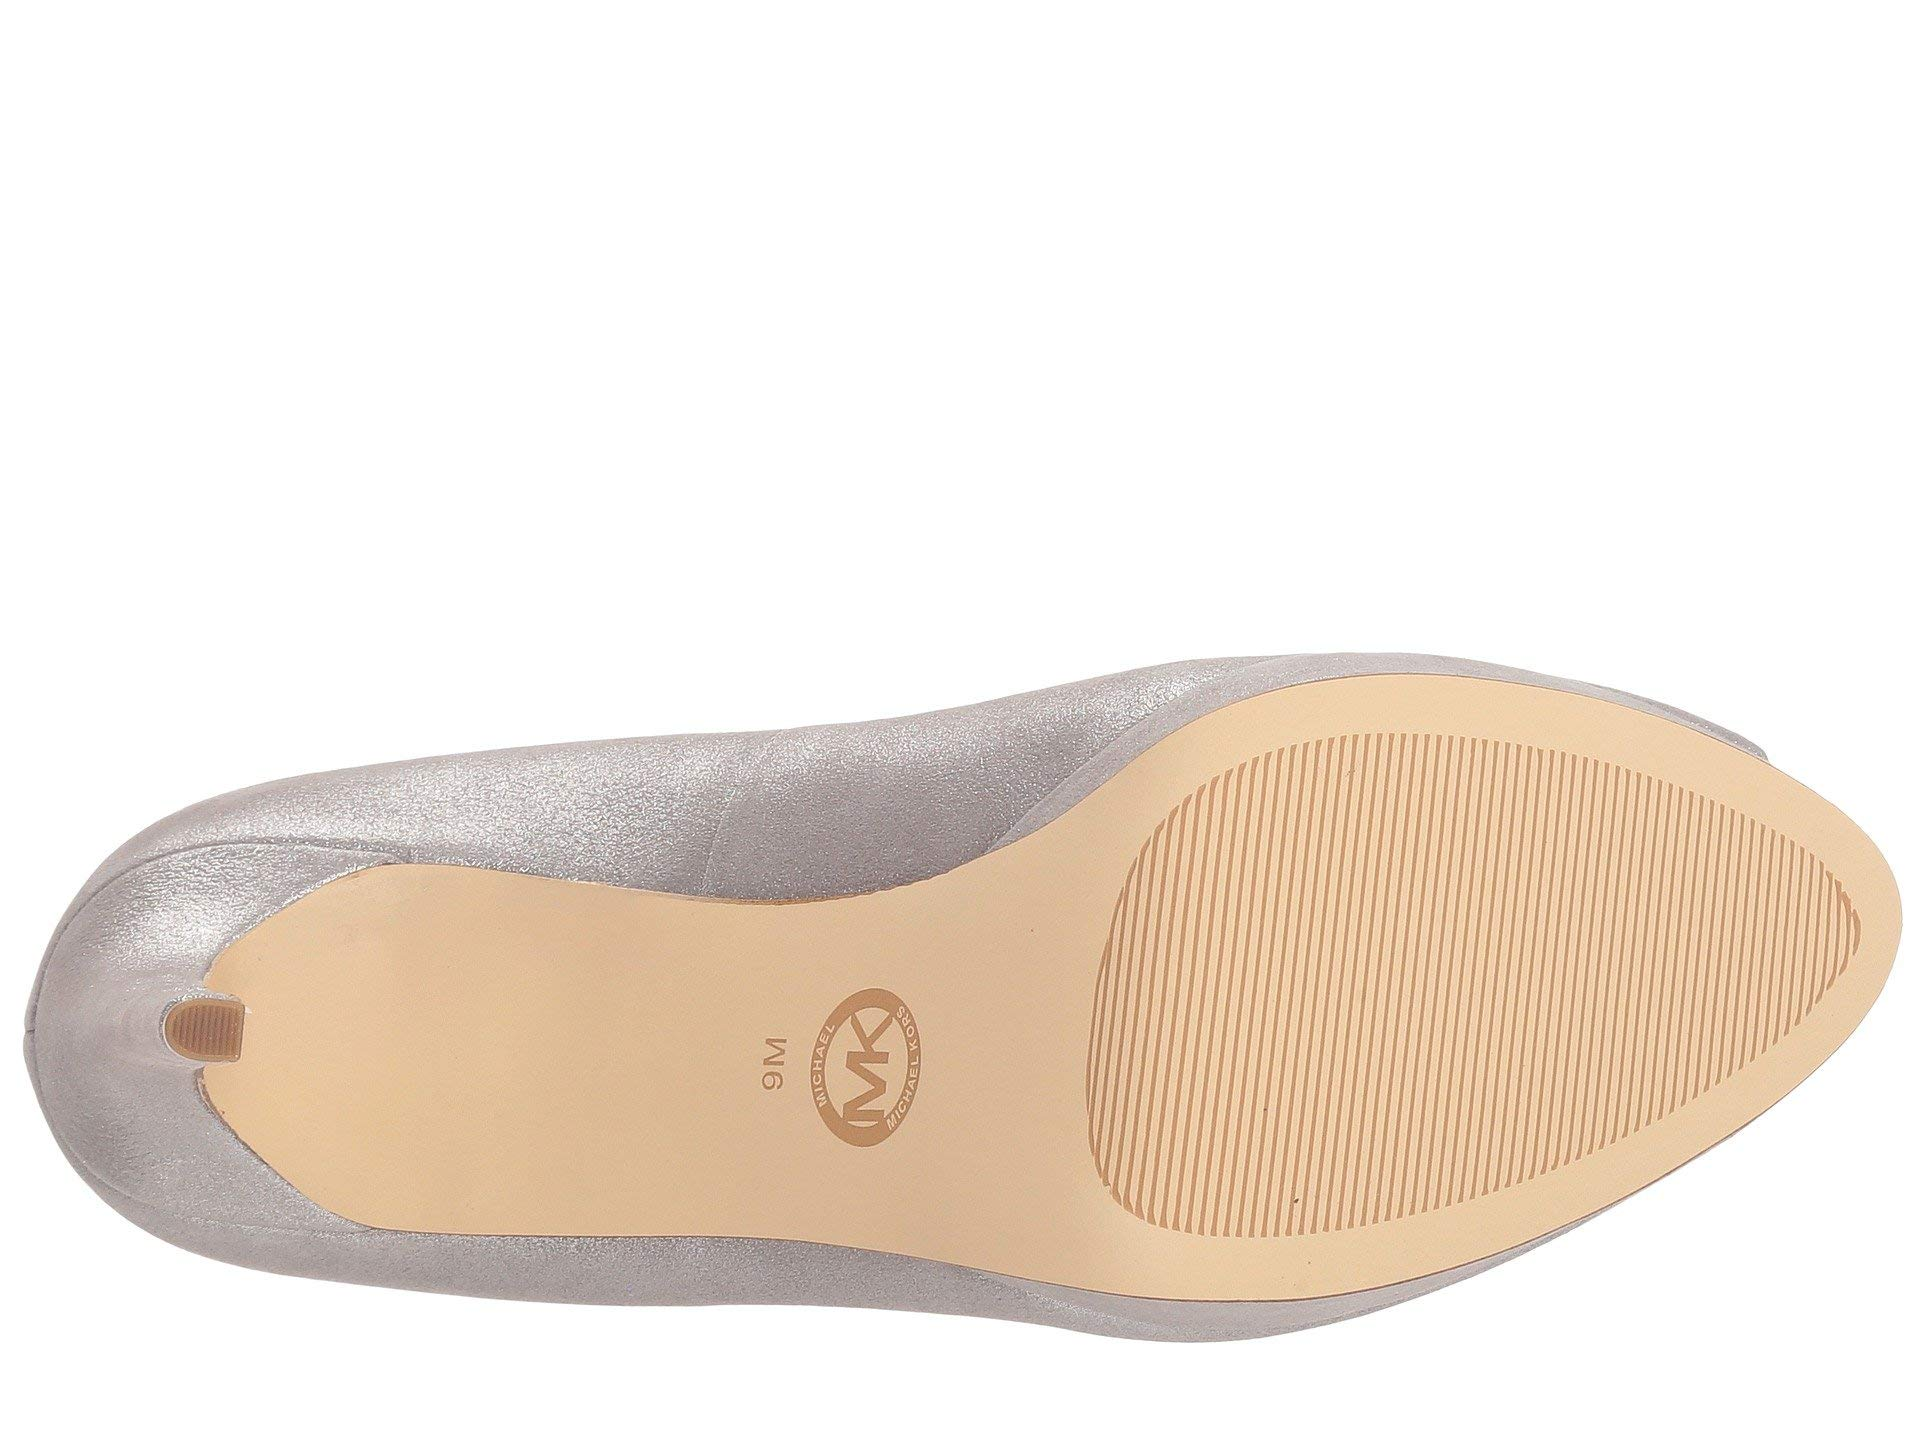line: (1178, 865, 1486, 1181)
